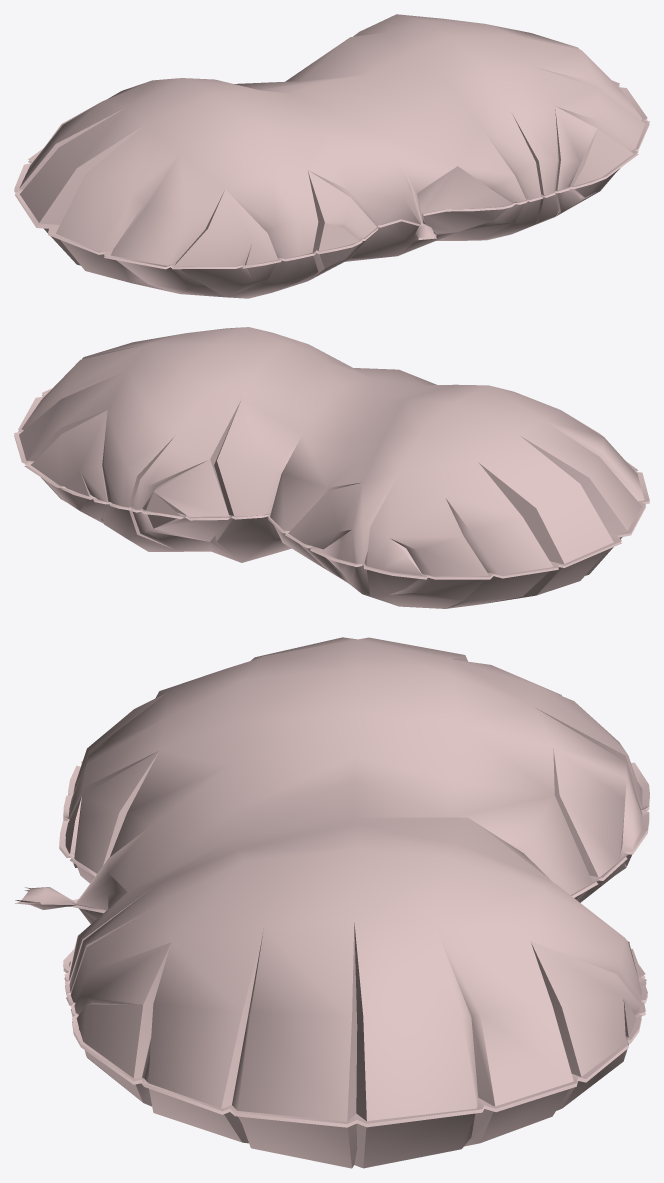
The model's file is three_mylar-balloon.obj.
3 renders of one model, top to bottom at view 1: azimuth 30°, elevation 25°; view 2: azimuth 150°, elevation 25°; view 3: azimuth 270°, elevation 25°, orthographic. The views are drawn at different scales.
Parts seen in each view (by area): view 1: mylar-ballon-low; view 2: mylar-ballon-low; view 3: mylar-ballon-low.
Part boxes in pixels (box(x1,y1,x2,y2)): mylar-ballon-low: box(14, 14, 649, 298); mylar-ballon-low: box(14, 327, 649, 608); mylar-ballon-low: box(15, 637, 649, 1168).
Bounding box in the file's own units: 26.28 × 8.02 × 15.9.
